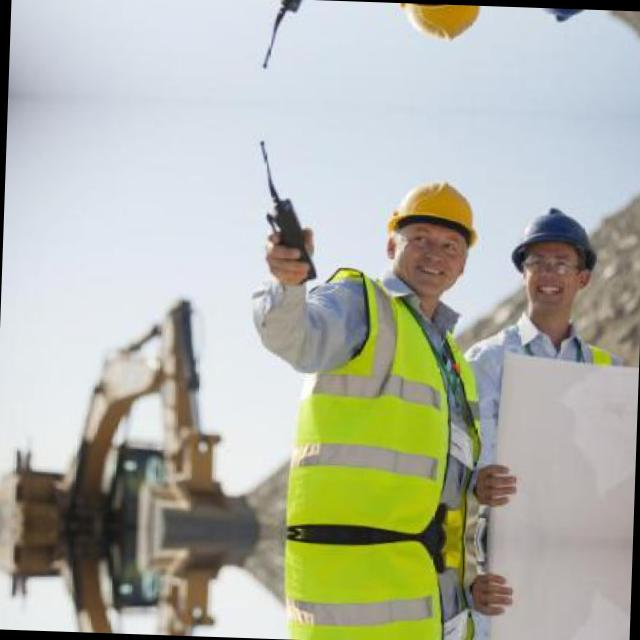helmet: (370, 162, 488, 308), (502, 185, 608, 332), (378, 2, 494, 60), (512, 6, 614, 44)
